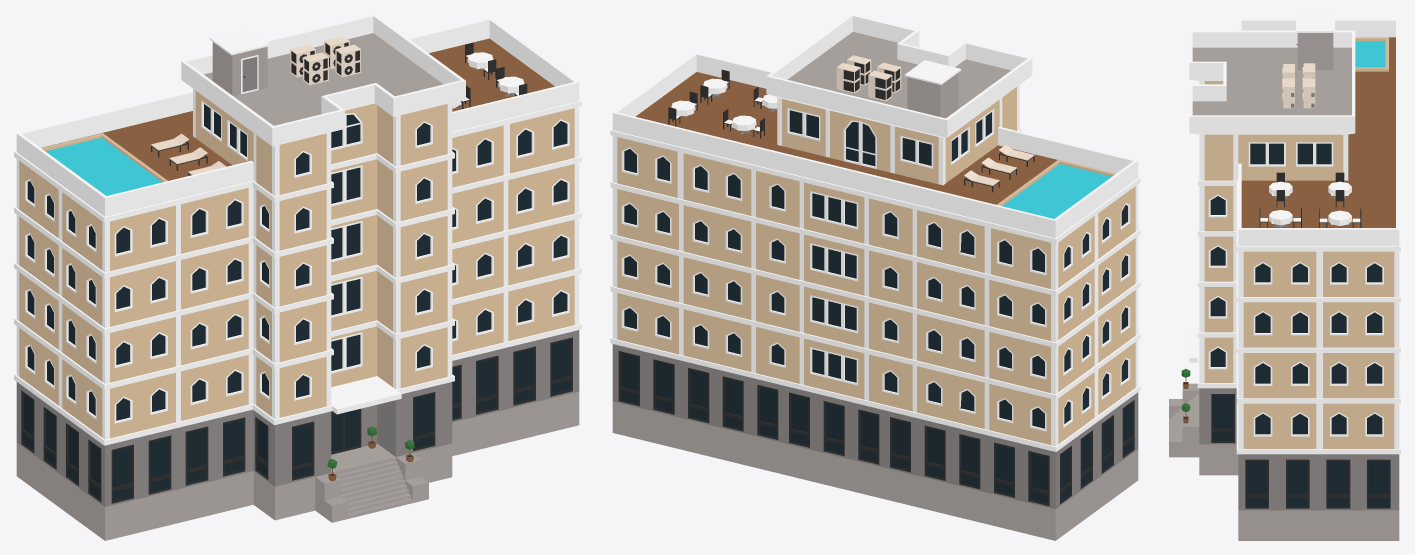
The model's file is building-hotel.glb.
3 renders of one model, left to right at view 1: azimuth 30°, elevation 25°; view 2: azimuth 150°, elevation 25°; view 3: azimuth 270°, elevation 25°, orthographic. The views are drawn at different scales.
Parts seen in each view (by area): view 1: building-hotel; view 2: building-hotel; view 3: building-hotel.
Part boxes in pixels (<box>): building-hotel: <box>14,14,581,540</box>; building-hotel: <box>610,14,1140,540</box>; building-hotel: <box>1169,14,1400,540</box>.
Bounding box in the file's own units: 29.6 × 25.2 × 13.7.
Materials: 1 (1 with a texture image).
